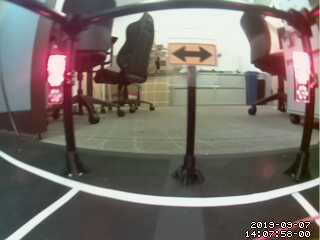Left_Right_sign: (166, 40, 221, 67)
Traffic_light_red: (48, 52, 66, 105), (293, 50, 312, 100)
